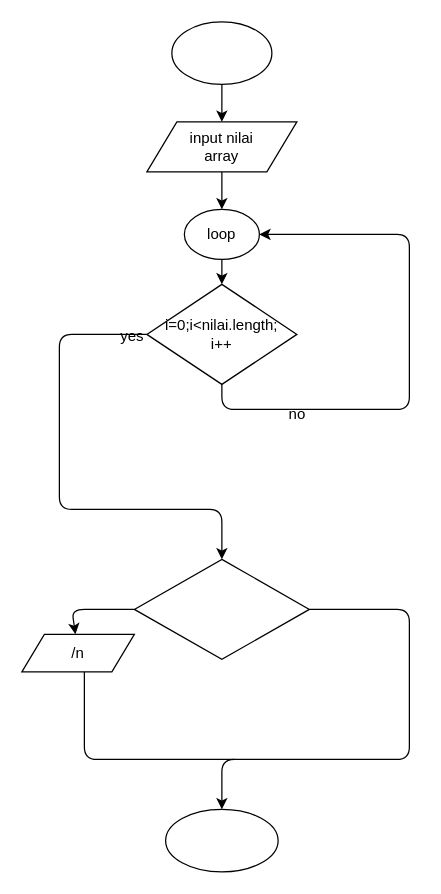
Some shapes in this 441 by 894 pixel diagram are drawn without their labels. The centre of each missing label's shape, as x and y in pixels:
"nilai[i] %2==0 hanya ada dua angka" goes at pixel 221 608.
"START" goes at pixel 221 52.
